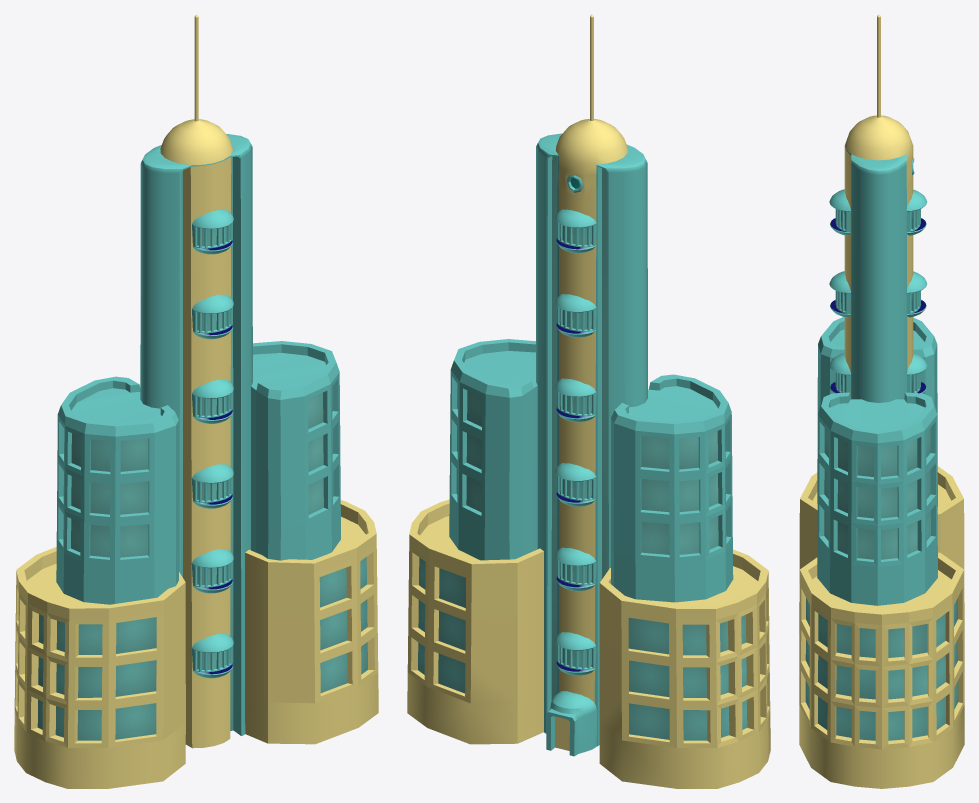
File: SM_Skyscraper_29.fbx
3 renders of one model, left to right at view 1: azimuth 30°, elevation 25°; view 2: azimuth 150°, elevation 25°; view 3: azimuth 270°, elevation 25°, orthographic. The views are drawn at different scales.
Visible parts, largest first — view 1: SM_Skyscraper_29; view 2: SM_Skyscraper_29; view 3: SM_Skyscraper_29.
Boxes of the visible parts, box(x1,y1,x2,y2) form: SM_Skyscraper_29: box(14, 14, 378, 788); SM_Skyscraper_29: box(407, 14, 770, 788); SM_Skyscraper_29: box(799, 14, 964, 788).
Size of the model in its own units: 1499 by 3020 by 653.
